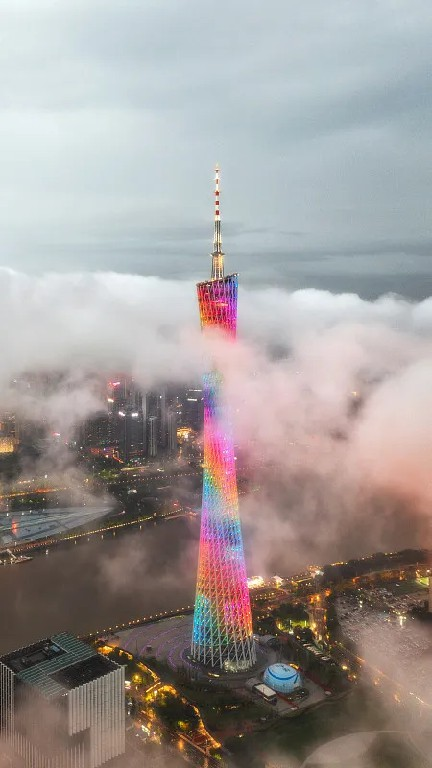Canton: (188, 161, 260, 673)
